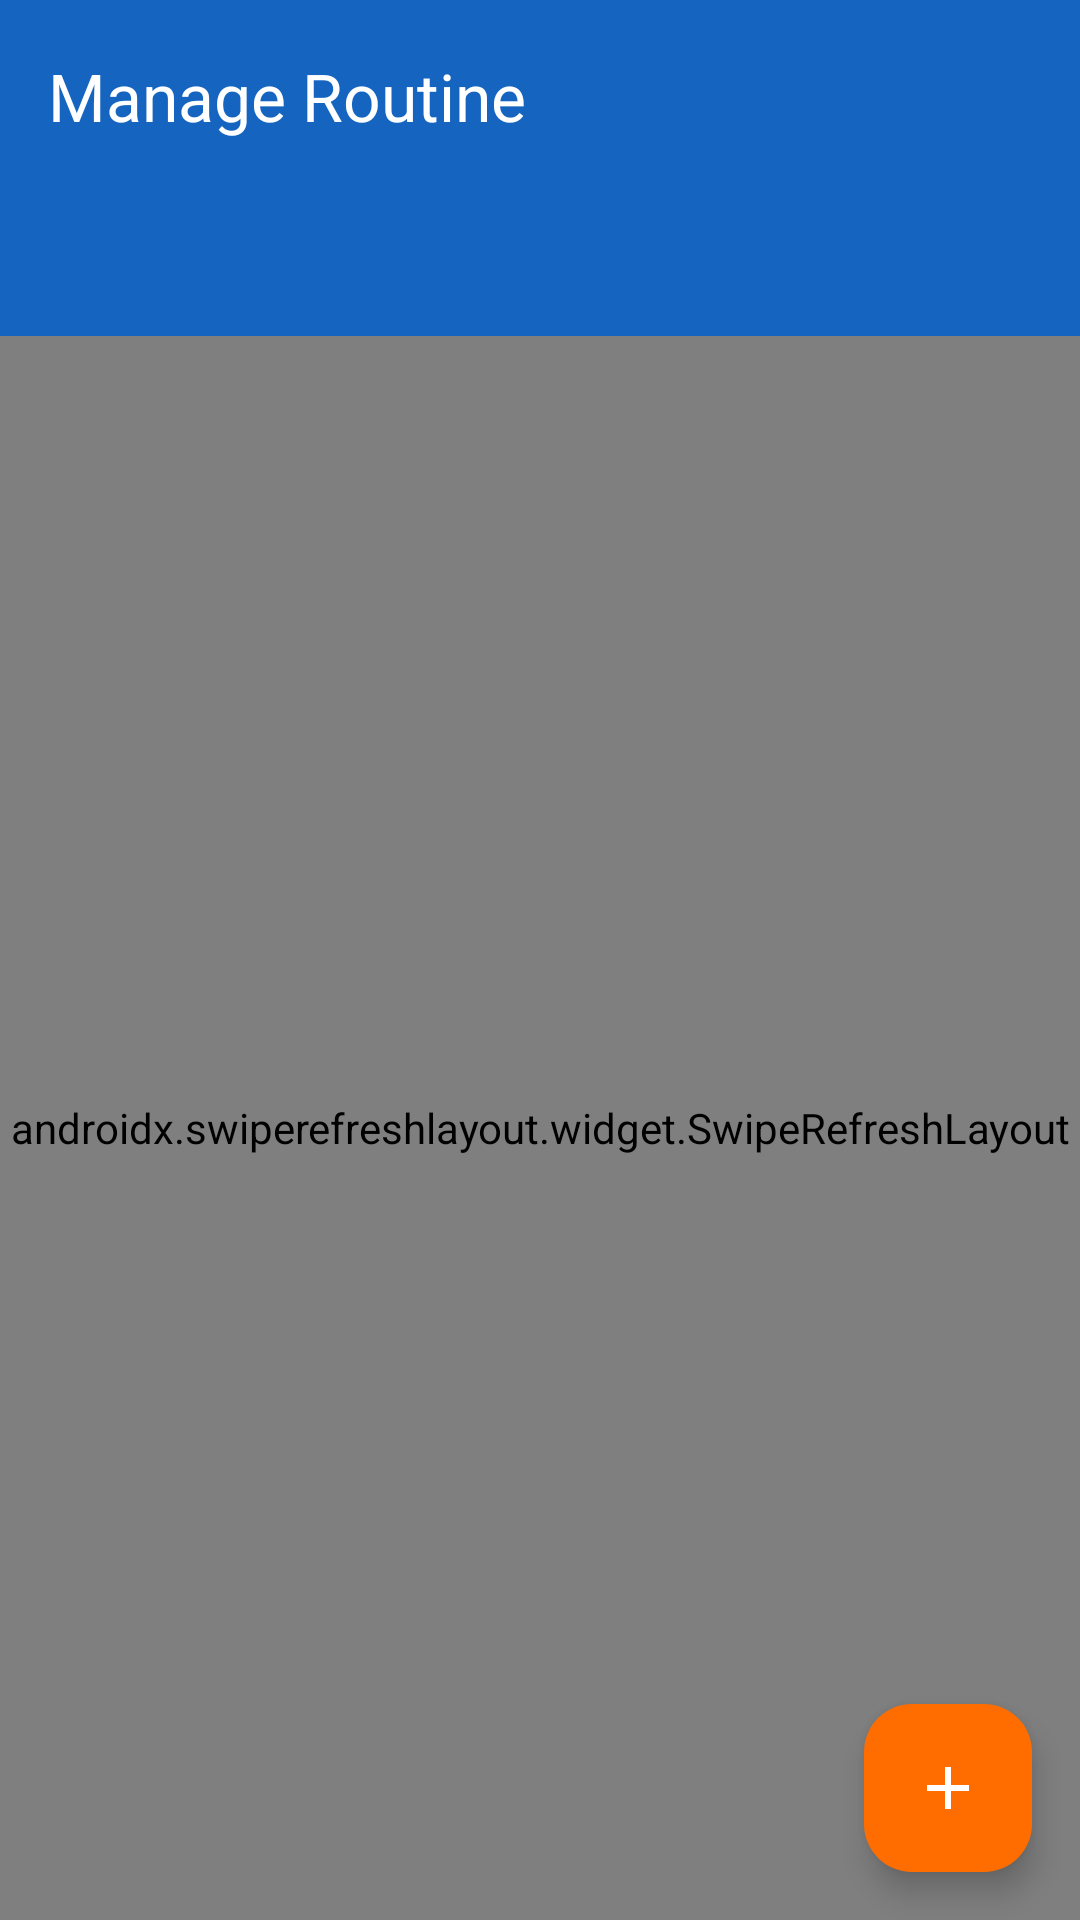

Named icons in this screenshot (1080 x 1920) and their bounding boxes, (left=x1, top=y1, right=x2, bottom=y2):
Add Class: (left=864, top=1704, right=1032, bottom=1872)
